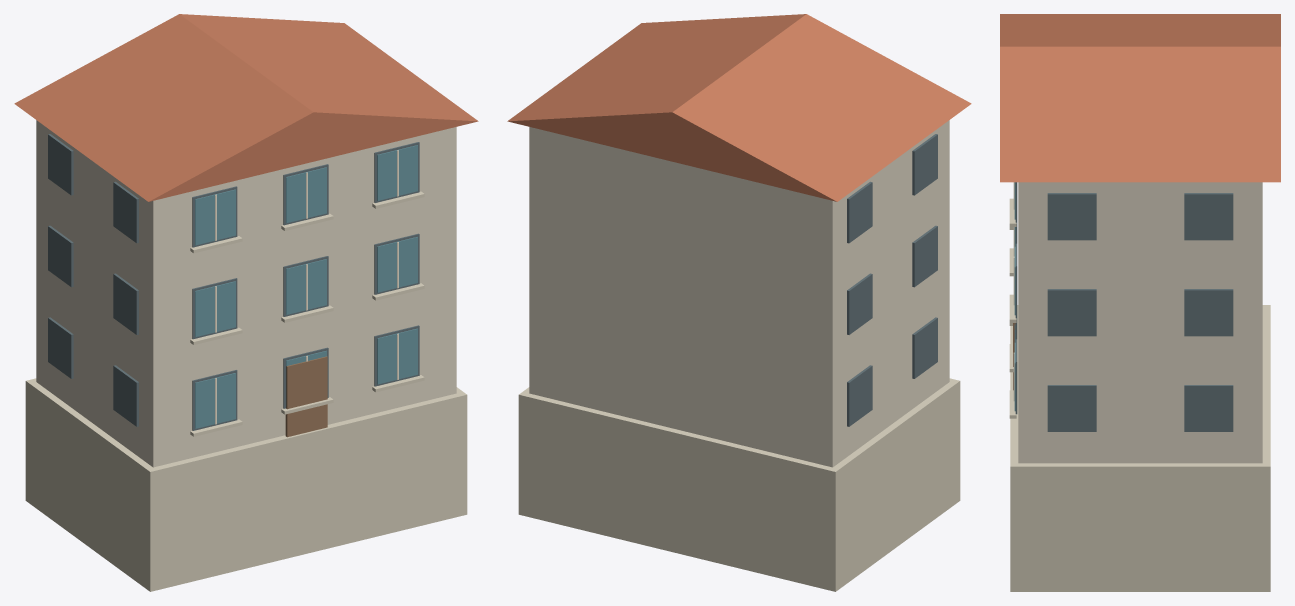
File: farm-2.glb
The picture shows the model from 3 angles, left to right: view 1: azimuth 30°, elevation 25°; view 2: azimuth 150°, elevation 25°; view 3: azimuth 270°, elevation 25°; orthographic projection. The views are drawn at different scales.
Size of the model in its own units: 9.8 by 12.6 by 6.9.
